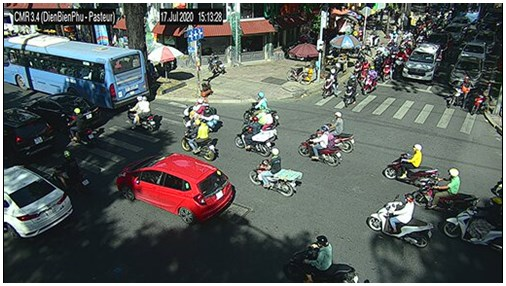xe_buyt: (4, 33, 149, 109)
xe_hoi: (115, 152, 235, 225), (4, 165, 73, 238), (28, 94, 102, 130), (4, 107, 54, 157), (402, 41, 442, 81), (449, 55, 482, 87), (458, 41, 488, 63)
xe_may: (366, 194, 433, 249), (284, 235, 358, 283), (443, 196, 502, 253), (410, 168, 479, 214), (249, 148, 303, 198), (381, 144, 436, 187), (298, 123, 342, 167), (235, 115, 274, 158), (52, 150, 88, 194), (182, 118, 216, 160), (243, 91, 279, 127), (324, 111, 354, 154), (184, 97, 219, 132), (67, 107, 95, 149), (127, 95, 156, 133), (448, 76, 468, 119), (471, 84, 493, 117), (323, 66, 339, 101), (343, 75, 359, 106), (370, 49, 384, 78), (362, 66, 375, 96), (382, 54, 393, 84), (395, 50, 405, 75)
